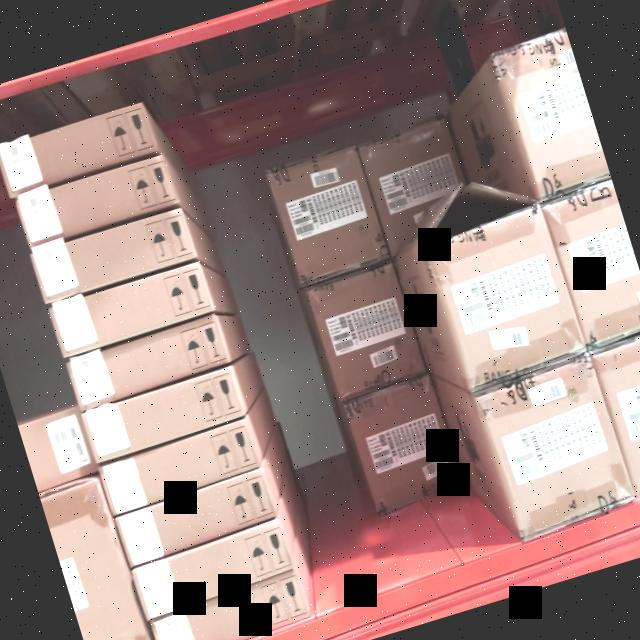box: (476, 356, 636, 534), (424, 206, 585, 382), (266, 146, 389, 284), (305, 262, 425, 399), (345, 376, 463, 512), (30, 207, 197, 303), (49, 262, 214, 356), (15, 155, 178, 250), (98, 419, 259, 512), (82, 368, 244, 460), (0, 103, 158, 197), (66, 318, 230, 407), (116, 472, 276, 561), (131, 524, 291, 610), (151, 578, 308, 640)
